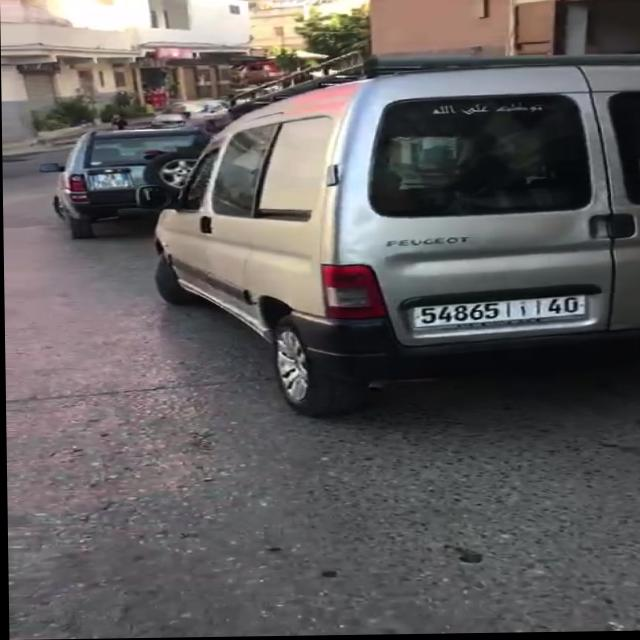License-Plate: (412, 298, 584, 329)
